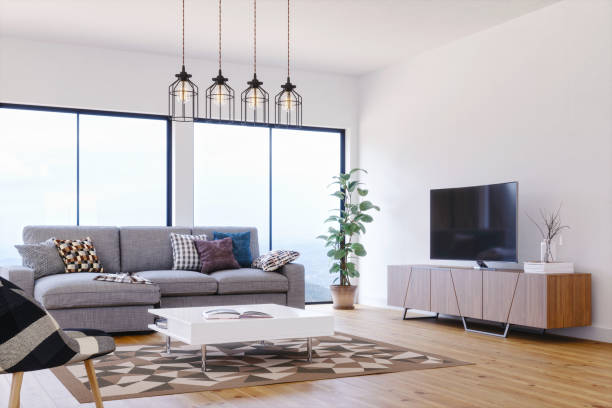TV: (427, 179, 521, 268)
TV stand: (385, 264, 594, 339)
chair: (0, 274, 116, 408)
flower vase: (526, 201, 570, 263)
large plant: (316, 164, 380, 309)
sofa: (0, 223, 308, 337)
table: (144, 300, 337, 373)
